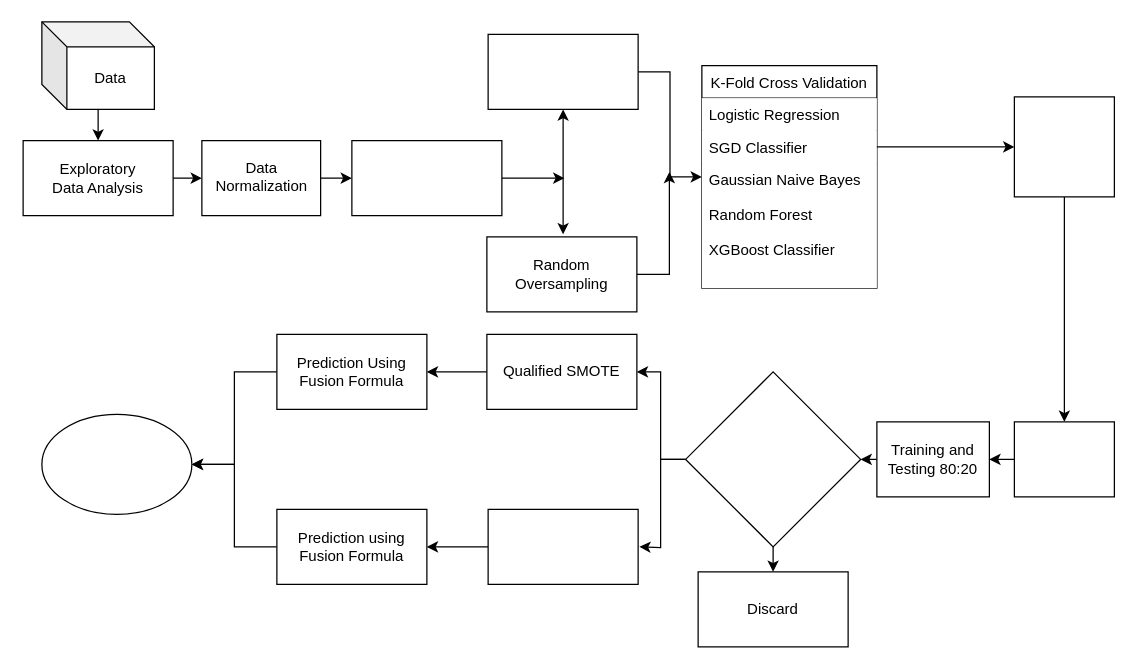
This 1136x669 diagram has some shape labels left out. The shapes that lost their labels are listed below. From the top down, each one's centre as x and y in pixels, then its label:
At (x=562, y=71): "SMOTE Oversampling".
At (x=1063, y=146): "Performance Analysis".
At (x=426, y=177): "Handling Dataset Imbalance".
At (x=116, y=463): "Exit".
At (x=772, y=459): "If Accuracy & F1-Score & Precision & Recall &AUC >= 90%".
At (x=1063, y=459): "Hybrid Model".
At (x=562, y=546): "Qualified Random".
